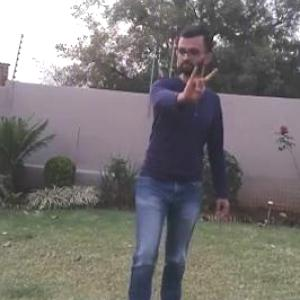takeoff-hand: (180, 56, 224, 108)
